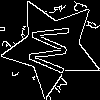W: (27, 22, 79, 76)
